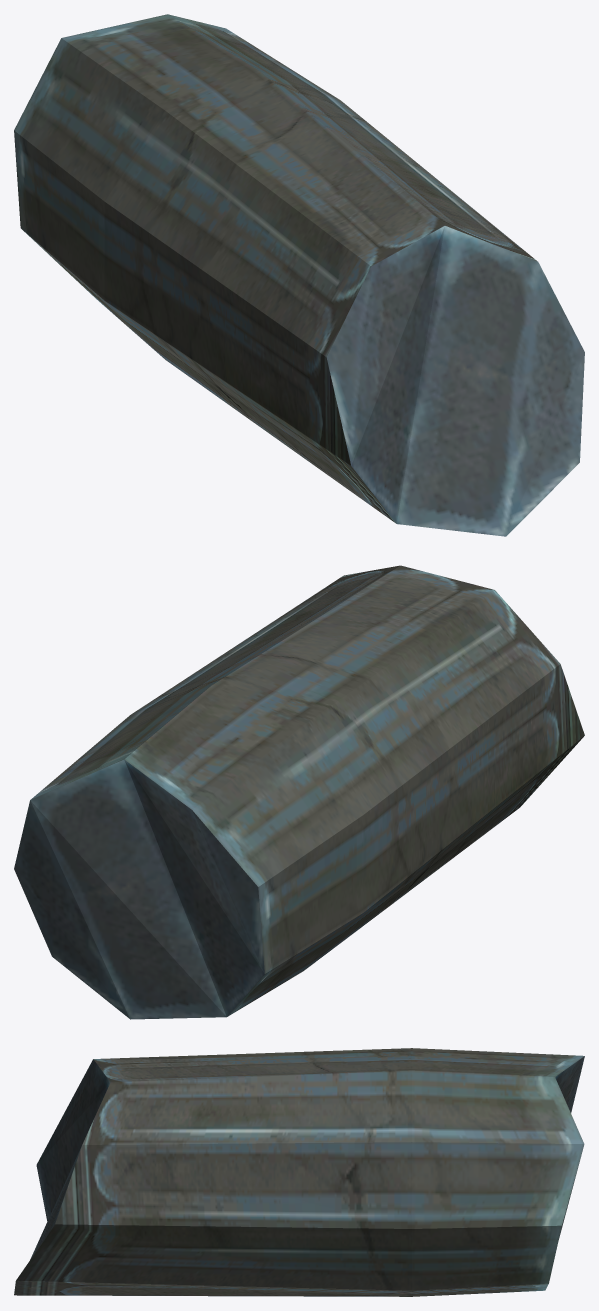
File: stemple_pillar_06.fbx
3 views of the same model, one above another, from view 1: azimuth 30°, elevation 25°; view 2: azimuth 150°, elevation 25°; view 3: azimuth 270°, elevation 25° (orthographic). The views are drawn at different scales.
Parts seen in each view (by area): view 1: obj0.183; view 2: obj0.183; view 3: obj0.183.
Part boxes in pixels (left/top/right/bottom): obj0.183: left=14, top=14, right=584, bottom=536; obj0.183: left=14, top=565, right=584, bottom=1019; obj0.183: left=14, top=1048, right=584, bottom=1296.
Bounding box in the file's own units: 1.55 × 1.56 × 3.57.
